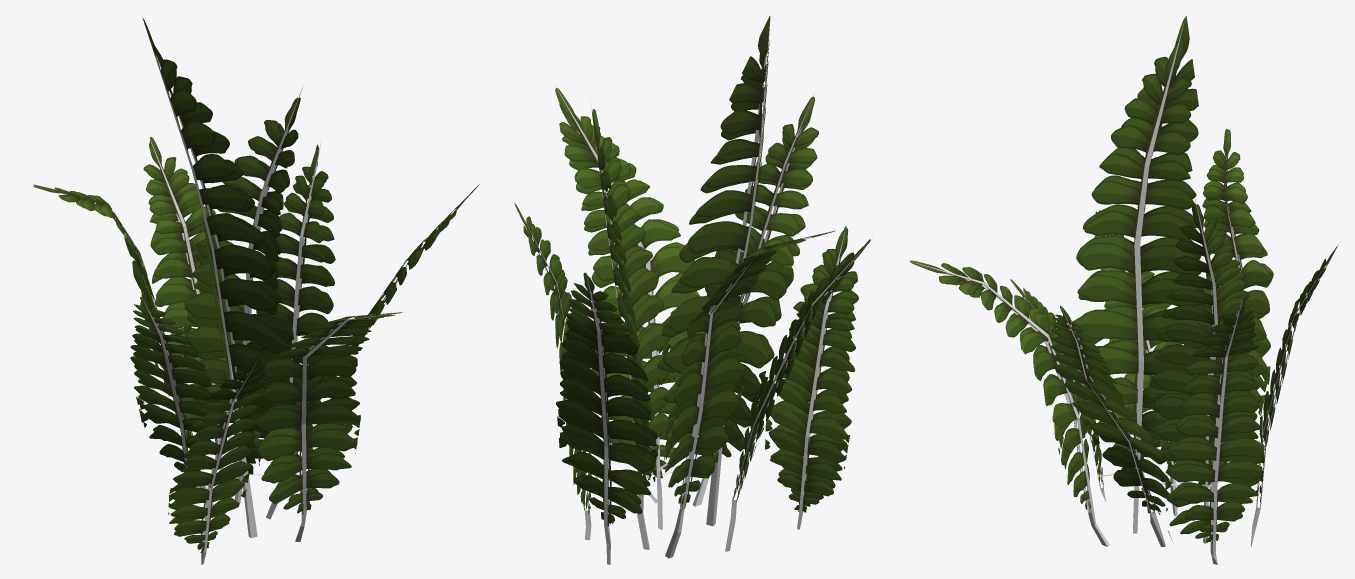
The model's file is SM_Fern_03.fbx.
The picture shows the model from 3 angles, left to right: view 1: azimuth 30°, elevation 25°; view 2: azimuth 150°, elevation 25°; view 3: azimuth 270°, elevation 25°; orthographic projection. The views are drawn at different scales.
Visible parts, largest first — view 1: SM_Fern_03; view 2: SM_Fern_03; view 3: SM_Fern_03.
Boxes of the visible parts, x1,y1,x2,y2 form: SM_Fern_03: [33, 17, 479, 564]; SM_Fern_03: [514, 16, 872, 564]; SM_Fern_03: [905, 16, 1340, 564].
Bounding box in the file's own units: 58.78 × 77.91 × 64.25.
